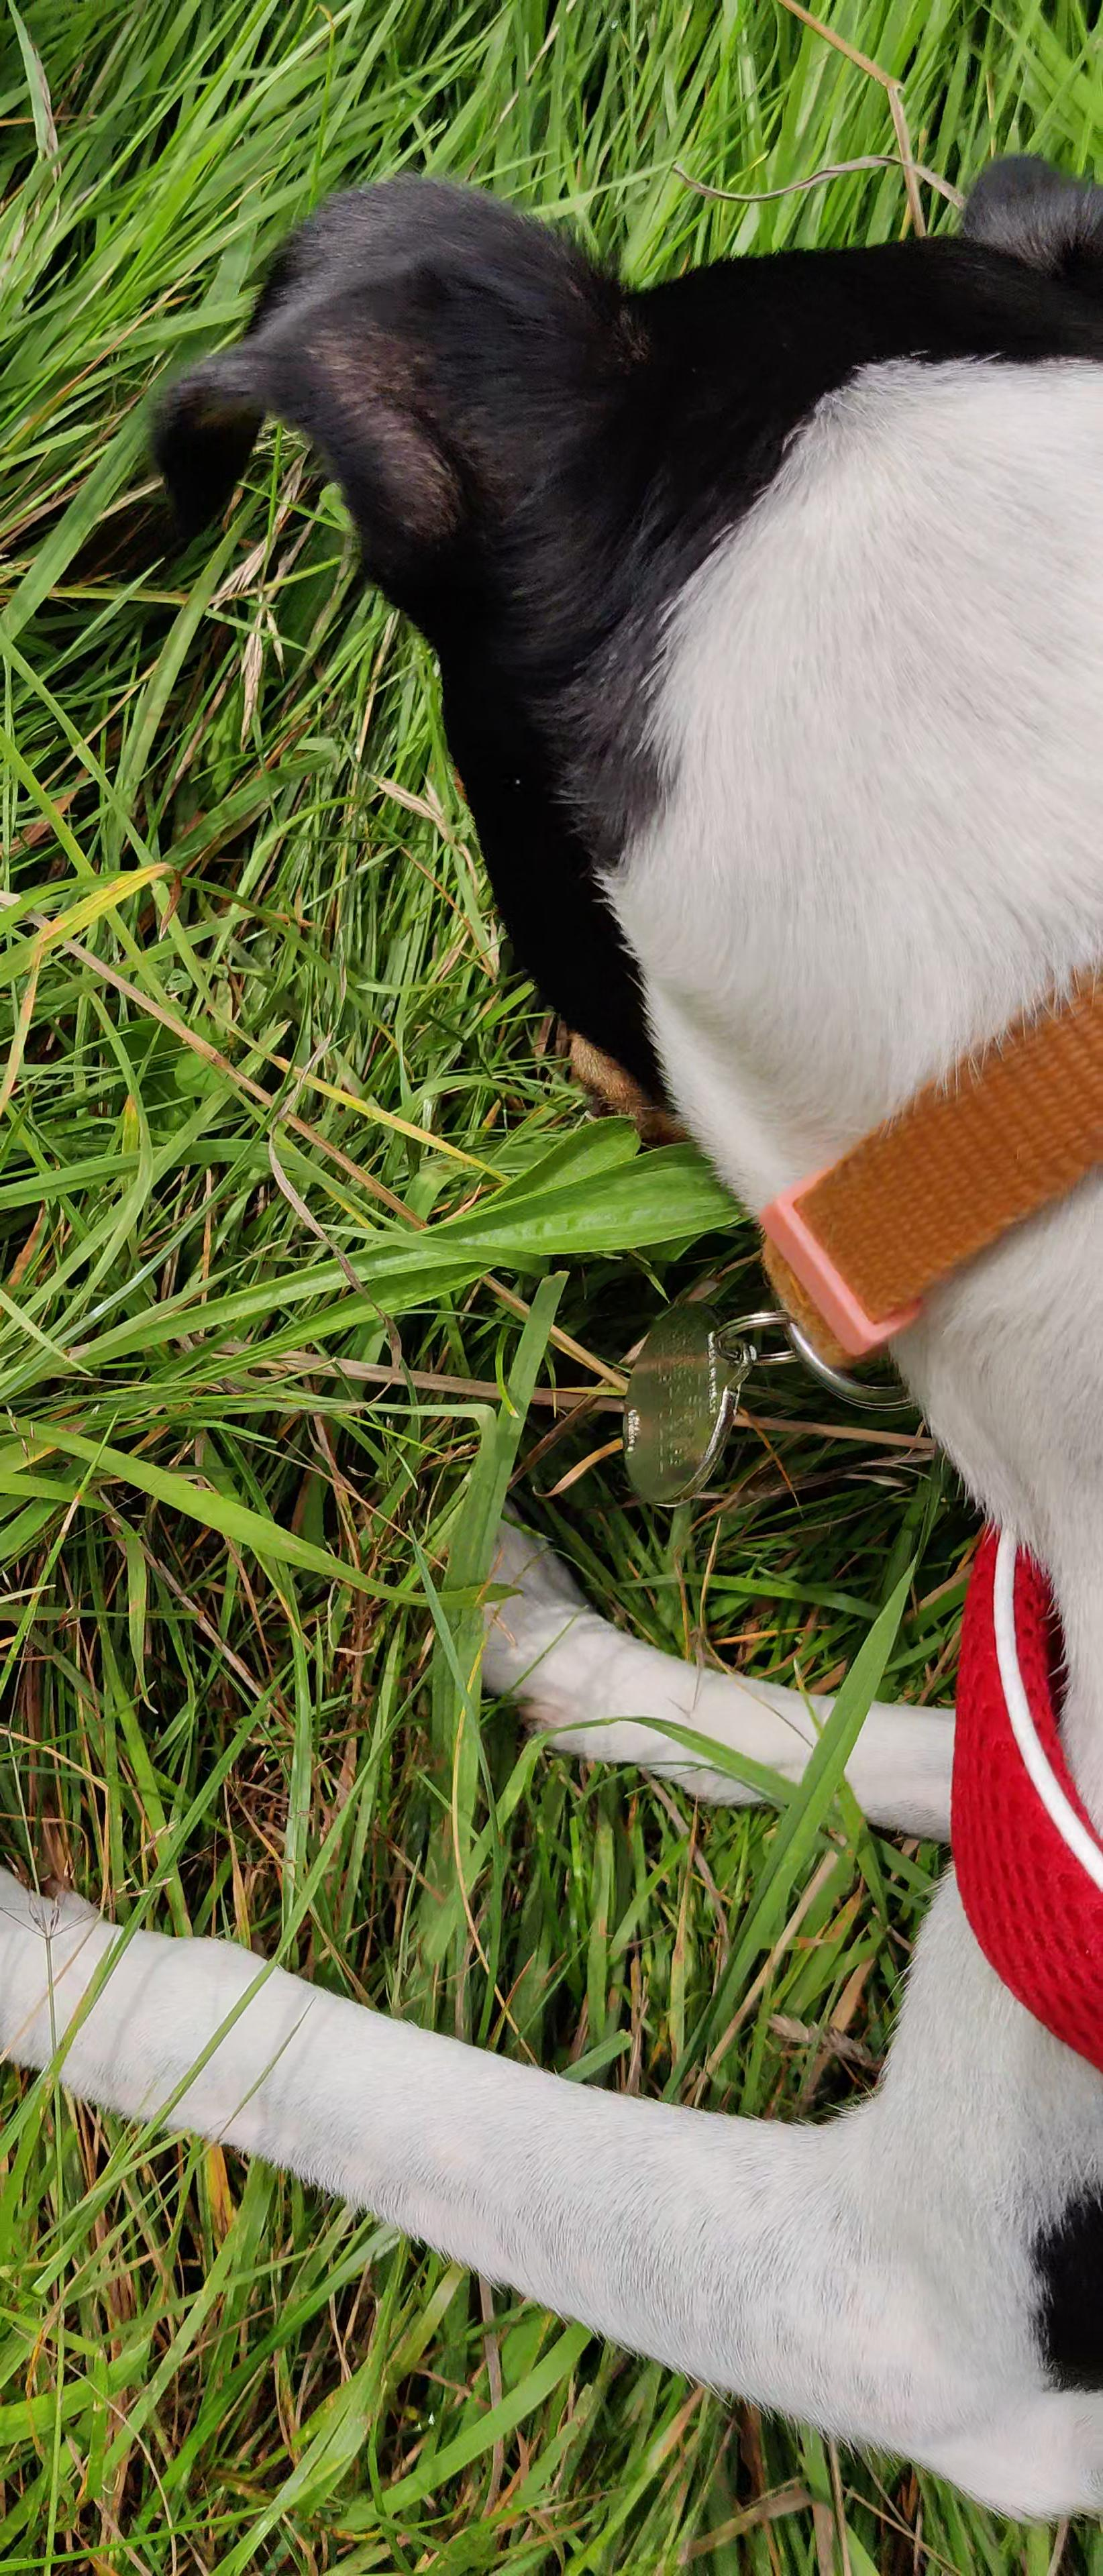Dog: (0, 145, 1103, 2523)
